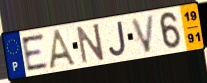6: (159, 10, 184, 52)
A: (48, 27, 80, 70)
E: (20, 32, 51, 73)
J: (108, 19, 128, 58)
N: (75, 22, 107, 66)
V: (129, 13, 156, 55)
